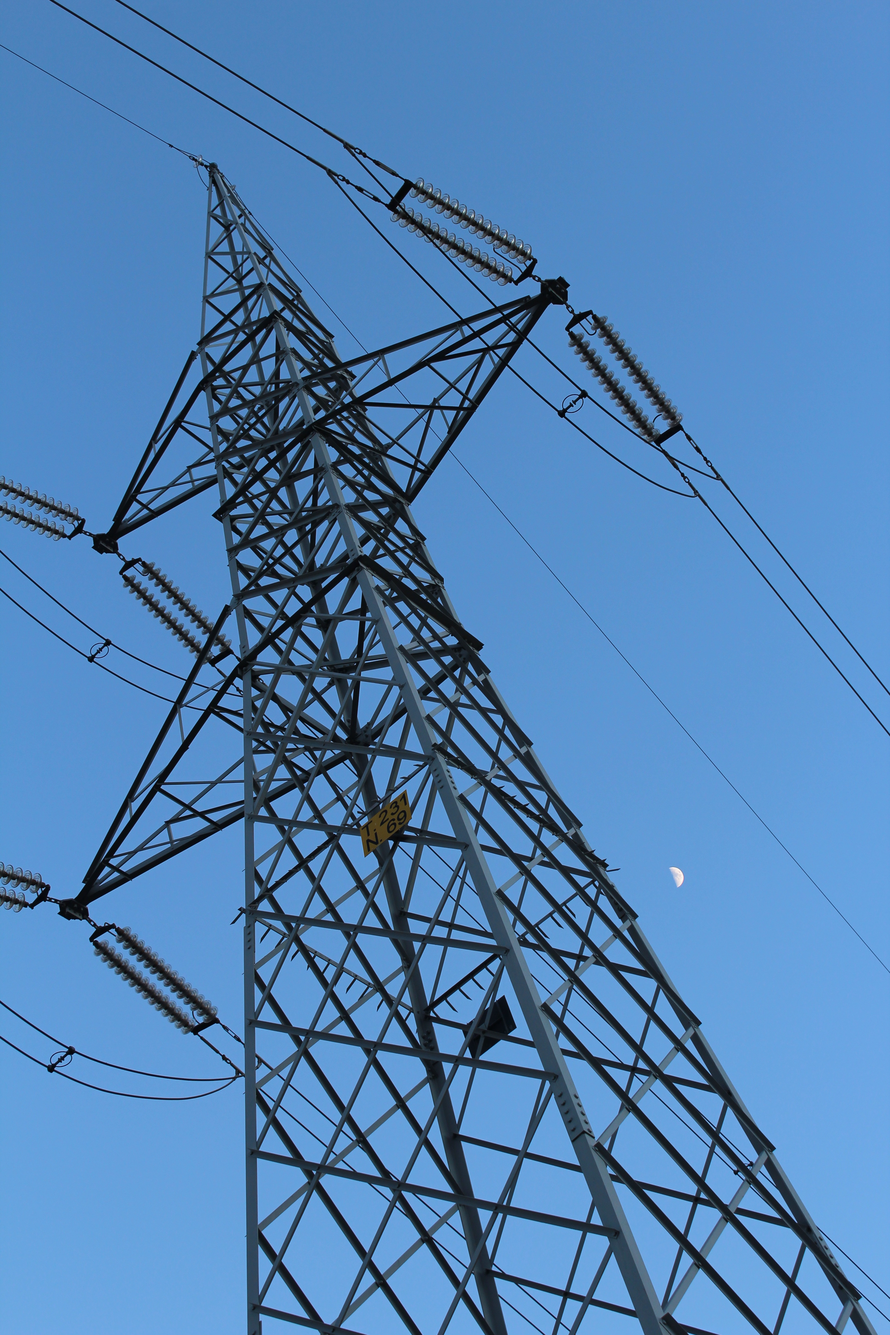insulator: (375, 160, 537, 290), (84, 914, 222, 1051), (578, 296, 678, 454), (114, 545, 229, 674), (0, 472, 91, 561), (0, 859, 76, 917)
